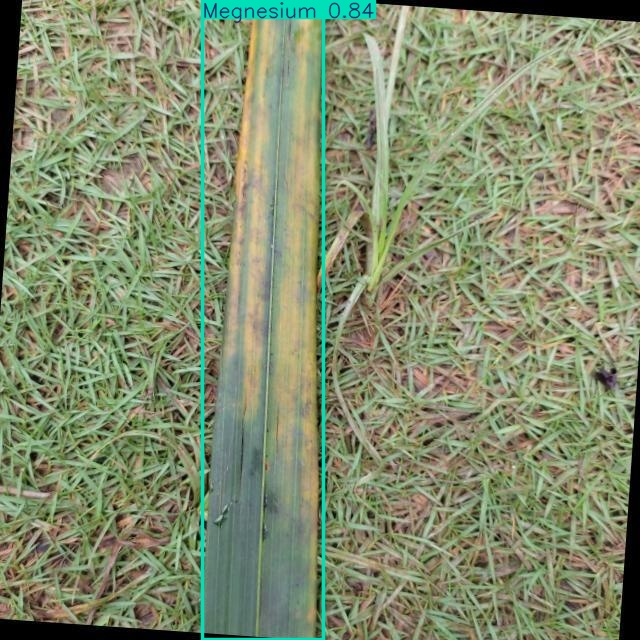Megnesium: (203, 0, 323, 639)
